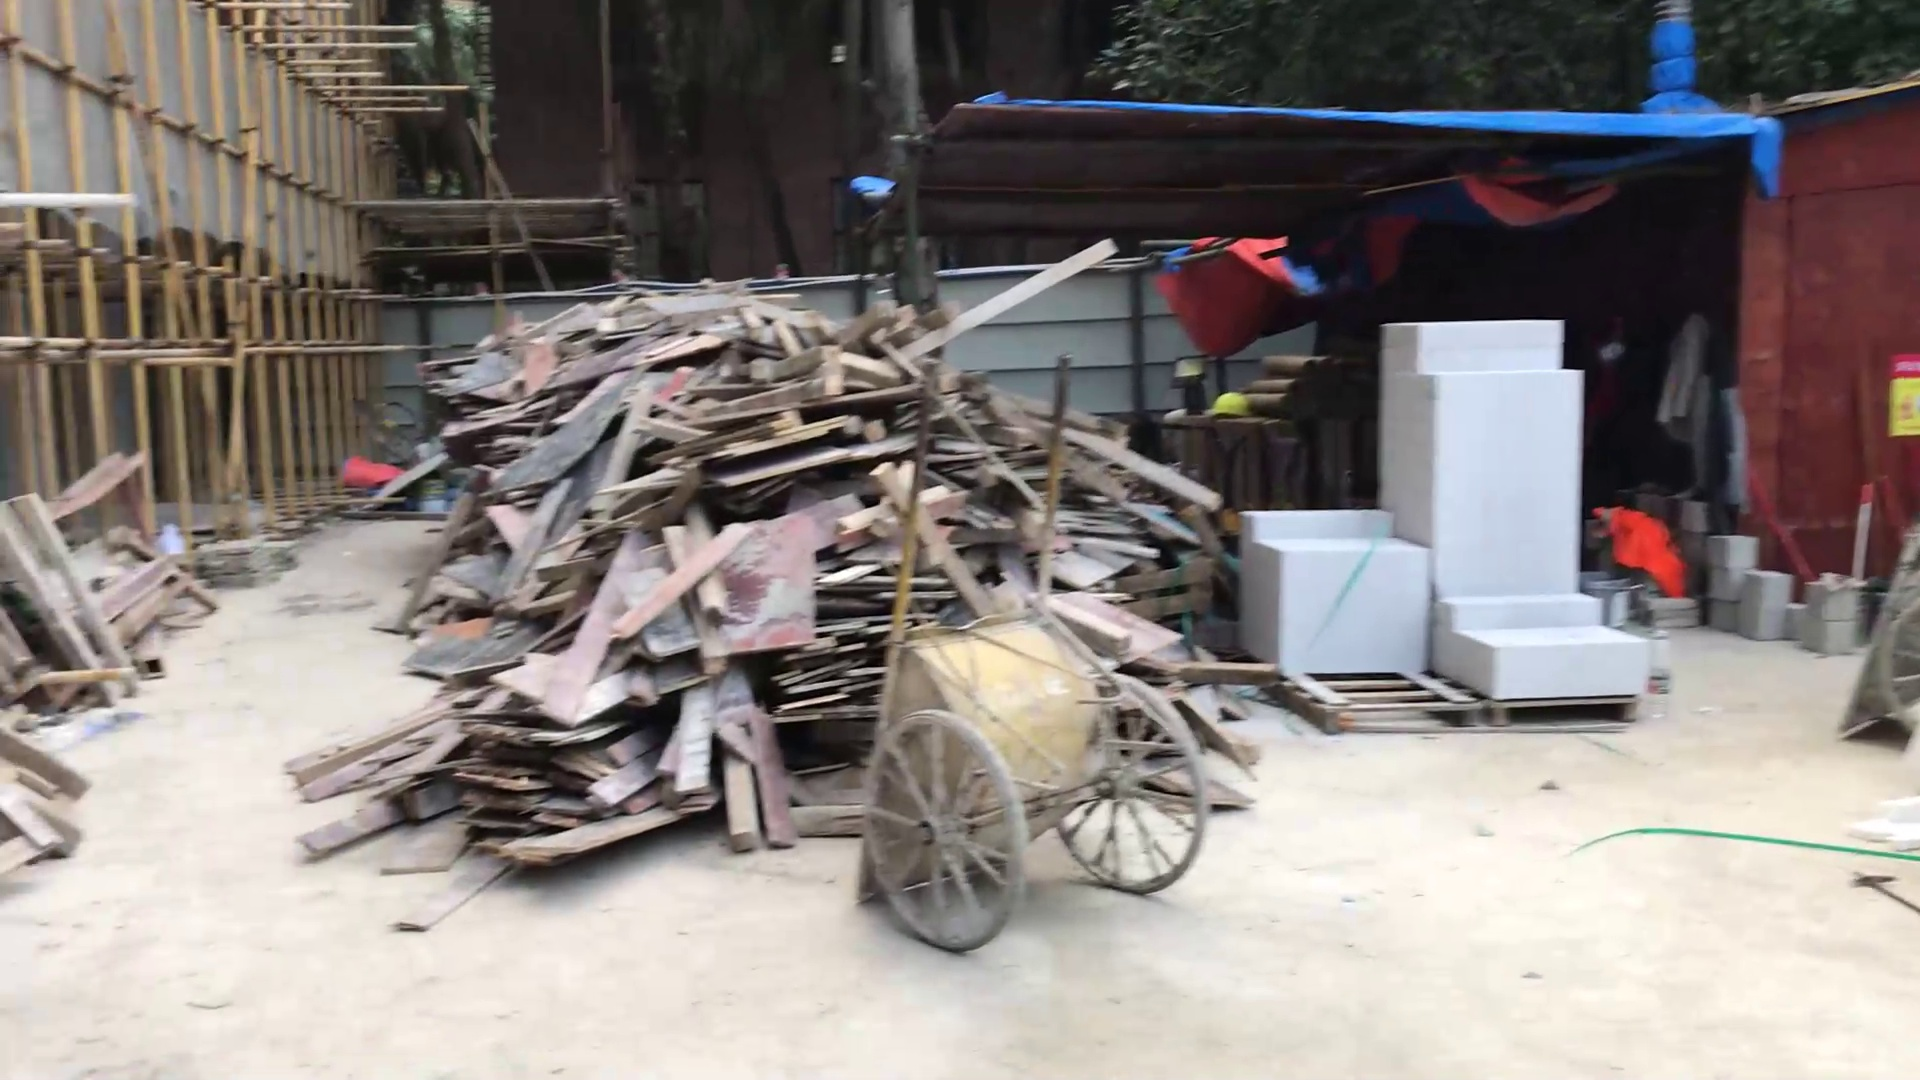brick: (1230, 313, 1656, 716)
handcart: (848, 338, 1236, 967)
